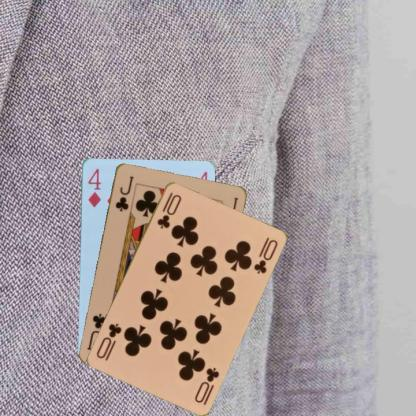10c: (191, 364, 221, 404), (154, 189, 183, 230)
4d: (85, 166, 102, 208)
Jc: (112, 172, 135, 212)
